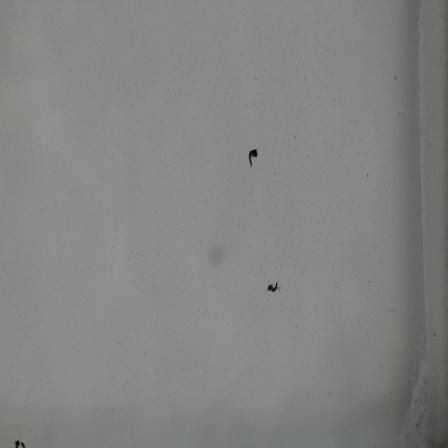Jentik-Nyamuk: (244, 142, 262, 170), (263, 279, 282, 297)
